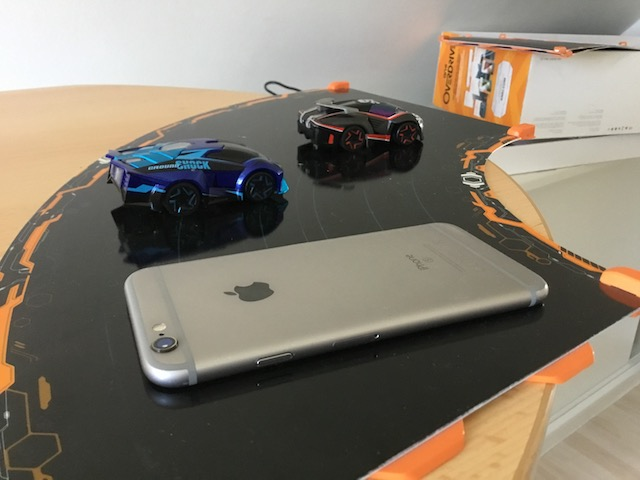car-blue: (102, 136, 290, 218)
car-red: (295, 96, 427, 159)
phone: (119, 218, 551, 392)
